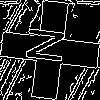N: (25, 25, 75, 66)
